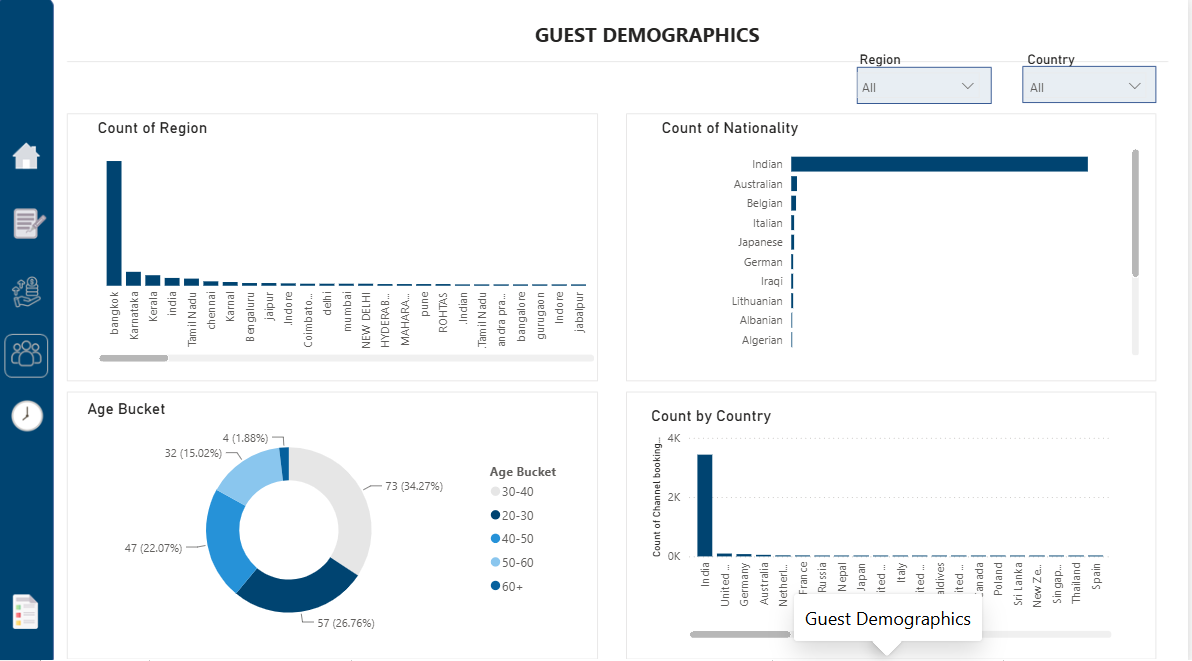

The page's visual inventory and layout, read from the dashboard file:
{"tool":"powerbi","page":{"name":"Guest Demographics ","canvas":[1280,720],"ordinal":3},"visuals":[{"type":"clusteredColumnChart","title":"Count by Country","fields":{"Category":["Raw data.Country"],"Y":["CountNonNull(Raw data.Channel booking ID)"]},"box":[698.4,440.6,504.8,253.9],"z":0},{"type":"donutChart","title":"Age Bucket","fields":{"Category":["Raw data.Age Bucket"],"Y":["CountNonNull(Raw data.Channel booking ID)"]},"box":[92.4,431.9,532,261.6],"z":1000},{"type":"lineStackedColumnComboChart","title":"Count of Region","fields":{"Category":["Raw data.Region"],"Y":["CountNonNull(Raw data.Channel booking ID)"]},"box":[103.1,131.3,543.7,266.5],"z":2000},{"type":"slicer","fields":{"Values":["Raw data.Region"]},"box":[915.3,52.5,151.7,78.8],"z":3000},{"type":"slicer","title":"Country","fields":{"Values":["Raw data.Country"]},"box":[1095.2,52.5,150.8,74.9],"z":4000},{"type":"barChart","title":"Count of  Nationality","fields":{"Y":["CountNonNull(Raw data.Channel booking ID)"],"Category":["Raw data.Nationality"]},"box":[709.1,131.3,523.3,259.7],"z":5000},{"type":"actionButton","box":[11.7,431.9,41.8,39.9],"z":6000},{"type":"actionButton","box":[11.7,222.7,41.8,39.9],"z":7000},{"type":"actionButton","box":[11.7,292.8,41.8,39.9],"z":8000},{"type":"actionButton","box":[12.6,154.7,40.9,39.9],"z":10000},{"type":"actionButton","box":[12.6,637.1,41.8,39.9],"z":11000},{"type":"textbox","box":[354,19.5,688.6,39.9],"z":12000}]}

Visuals, with their boxes on the page's 1280x720 design canvas (x1, y1, x2, y2). These are canvas units, not pixel positions in the 1192x661 screenshot, which may show the page scaled, cropped or inside an application window:
"Count by Country" clusteredColumnChart: box=[698, 441, 1203, 694]
"Age Bucket" donutChart: box=[92, 432, 624, 694]
"Count of Region" lineStackedColumnComboChart: box=[103, 131, 647, 398]
slicer - Raw data.Region: box=[915, 52, 1067, 131]
"Country" slicer: box=[1095, 52, 1246, 127]
"Count of  Nationality" barChart: box=[709, 131, 1232, 391]
actionButton: box=[12, 432, 54, 472]
actionButton: box=[12, 223, 54, 263]
actionButton: box=[12, 293, 54, 333]
actionButton: box=[13, 155, 54, 195]
actionButton: box=[13, 637, 54, 677]
textbox: box=[354, 20, 1043, 59]
